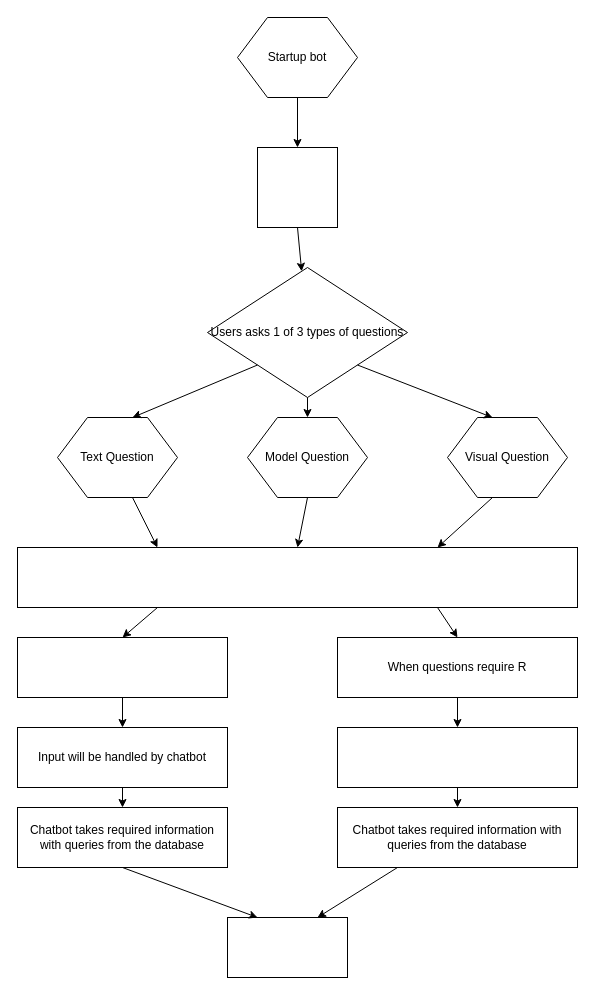
Image size: 595x995. Some labels were removed from this diagram. The shapes that lost their labels are listed below. From the top down, each one's box as (x1, y1, x2, y2) in pixels, then its label:
(256, 146, 338, 228): Bot displays welcome message
(16, 546, 578, 608): Chatbot receives question and decides what to do with the question
(16, 636, 228, 698): When questions are text based
(336, 726, 578, 788): Input will be handled by chatbot with R plugin
(226, 916, 348, 978): Chatbot displays wanted output
